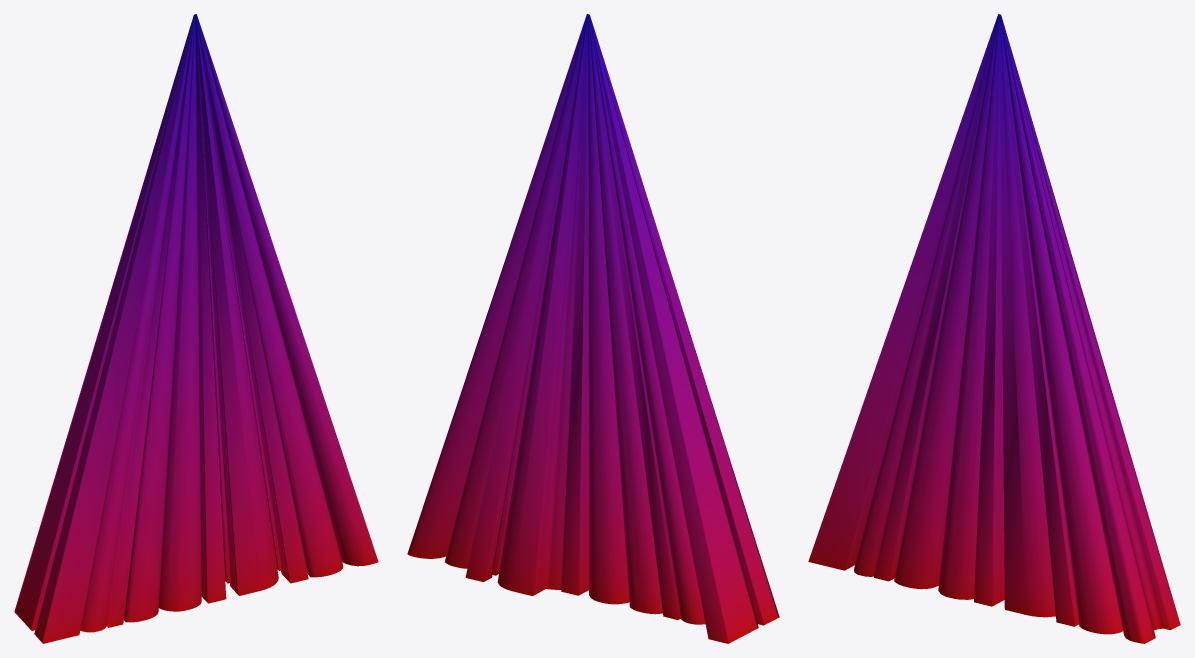
The model's file is SM_Laserdisc_Pointed.fbx.
3 views of the same model, side by side, from view 1: azimuth 30°, elevation 25°; view 2: azimuth 150°, elevation 25°; view 3: azimuth 330°, elevation 25° (orthographic).
Visible parts, largest first — view 1: polyreduce1; view 2: polyreduce1; view 3: polyreduce1.
Boxes of the visible parts, bbox=[...] form: polyreduce1: bbox=[14, 14, 378, 643]; polyreduce1: bbox=[407, 14, 779, 643]; polyreduce1: bbox=[808, 14, 1180, 643].
Size of the model in its own units: 1723 by 2752 by 361.
